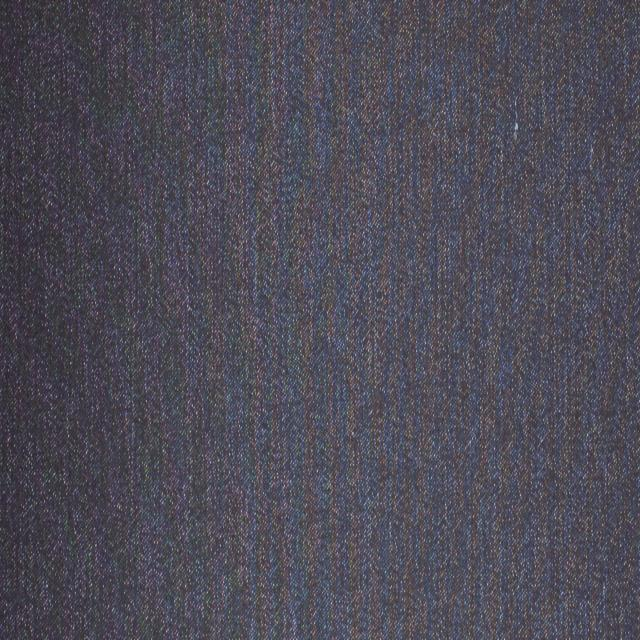Knot: (514, 89, 520, 144)
